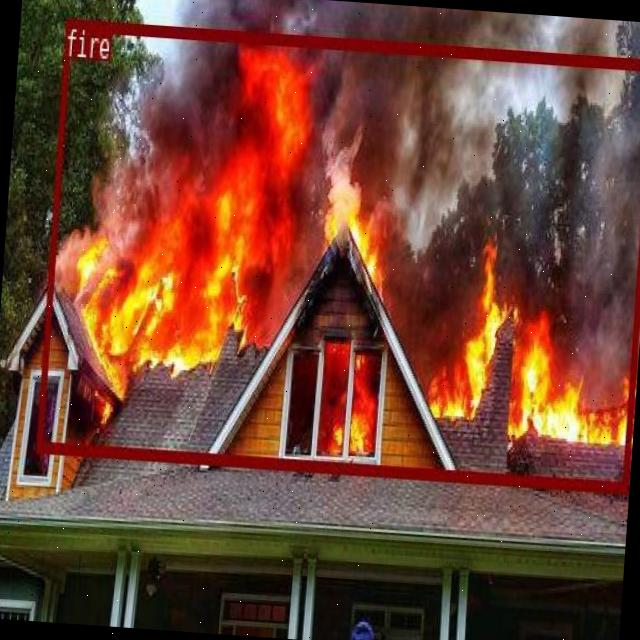fire: (36, 18, 640, 489)
